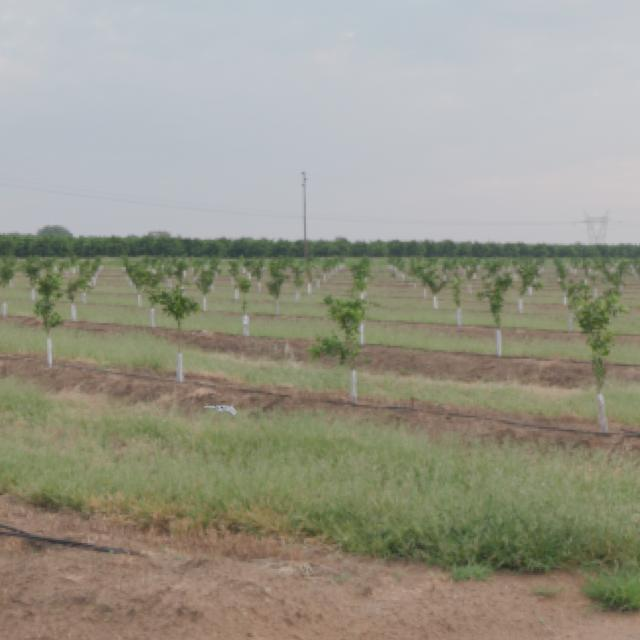Airaplan: (203, 402, 236, 415)
